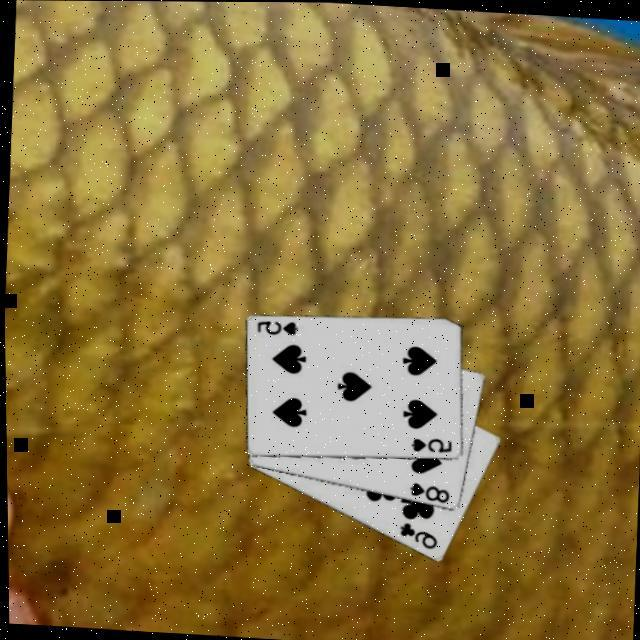5S: (409, 433, 456, 456), (255, 316, 302, 338)
8S: (406, 478, 454, 504)
9C: (396, 518, 442, 550)
